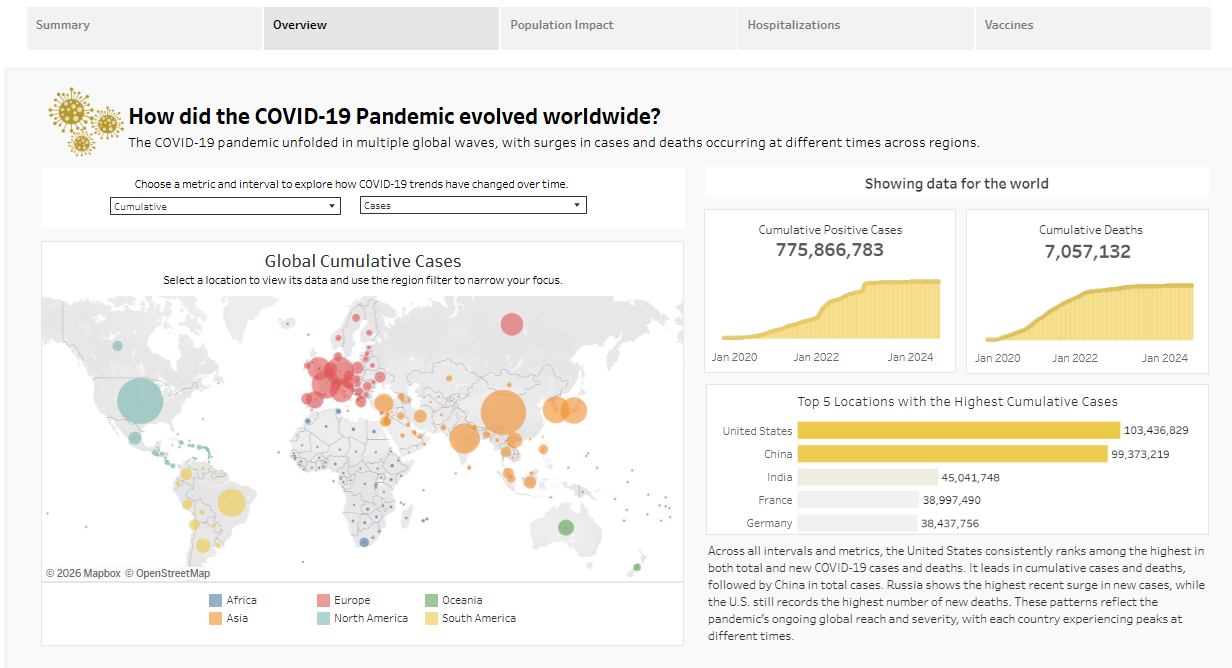

What the dashboard file says about the page in this screenshot:
{"tool":"tableau","page":{"name":"2 - Overview","canvas":[1400,700],"ordinal":0},"visuals":[{"type":"blank","box":[8,8,1384,684]},{"type":"text","box":[146,25,1239,97]},{"type":"text","box":[111,117,567,41]},{"type":"worksheet","title":"Country Label","mark":"Automatic","box":[788,119,561,33]},{"type":"blank","box":[49,120,717,67]},{"type":"parameter","param":"[Parameters].[Parameter 1]","box":[399,147,262,31]},{"type":"parameter","param":"[Parameters].[Parameter 2]","box":[125,152,259,31]},{"type":"blank","box":[787,166,280,182]},{"type":"blank","box":[1078,166,271,183]},{"type":"text","box":[791,173,276,30]},{"type":"text","box":[1082,173,271,31]},{"type":"worksheet","title":"Selected Case Metric","mark":"Automatic","box":[788,190,277,39]},{"type":"worksheet","title":"Selected Death metric","mark":"Automatic","box":[1081,194,266,36]},{"type":"worksheet","title":"Global Map - 1","mark":"Circle","box":[49,201,716,380]},{"type":"worksheet","title":"KPI Subtitle","mark":"Automatic","box":[800,221,266,19]},{"type":"worksheet","title":"KPI Subtitle (2)","mark":"Automatic","box":[1092,224,254,17]},{"type":"worksheet","title":"Global Cases Over Time","mark":"Area","rows":["Calculation_1566689751818362882","Calculation_1566689751818362882"],"cols":["date"],"box":[795,241,267,103]},{"type":"worksheet","title":"Global Deaths Over Time","mark":"Area","rows":["Calculation_1566689751830167557","Calculation_1566689751830167557"],"cols":["date"],"box":[1088,246,255,100]},{"type":"worksheet","title":"Top 5 Contributor","mark":"Automatic","rows":["location"],"cols":["Calculation_159877819796520960"],"box":[789,361,560,167]},{"type":"text","box":[791,520,561,146]},{"type":"blank","box":[49,581,716,71]},{"type":"legend","title":"Global Map - 1","param":"[federated.1f8hzj10l7pwom1exmcoq1esbqpq].[none:continent:nk]","box":[233,591,380,45]}]}

Visuals, with their boxes on the page's 1400x700 design canvas (x1, y1, x2, y2). These are canvas units, not pixel positions in the 1232x668 screenshot, which may show the page scaled, cropped or inside an application window:
blank: (8,8,1392,692)
text: (146,25,1385,122)
text: (111,117,678,158)
"Country Label" worksheet: (788,119,1349,152)
blank: (49,120,766,187)
parameter: (399,147,661,178)
parameter: (125,152,384,183)
blank: (787,166,1067,348)
blank: (1078,166,1349,349)
text: (791,173,1067,203)
text: (1082,173,1353,204)
"Selected Case Metric" worksheet: (788,190,1065,229)
"Selected Death metric" worksheet: (1081,194,1347,230)
"Global Map - 1" worksheet (Circle marks): (49,201,765,581)
"KPI Subtitle" worksheet: (800,221,1066,240)
"KPI Subtitle (2)" worksheet: (1092,224,1346,241)
"Global Cases Over Time" worksheet (Area marks): (795,241,1062,344)
"Global Deaths Over Time" worksheet (Area marks): (1088,246,1343,346)
"Top 5 Contributor" worksheet: (789,361,1349,528)
text: (791,520,1352,666)
blank: (49,581,765,652)
"Global Map - 1" legend: (233,591,613,636)
